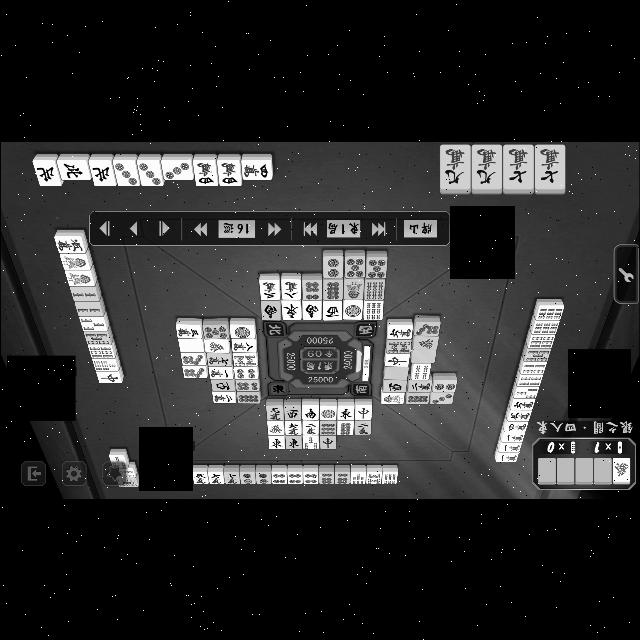1m: (500, 433, 524, 443), (208, 368, 232, 378), (495, 452, 517, 462), (498, 443, 520, 453)
1p: (228, 320, 256, 338), (320, 400, 336, 420), (344, 301, 361, 319)
1s: (59, 254, 91, 270), (64, 272, 96, 286), (344, 278, 362, 300), (379, 394, 405, 404)
2m: (408, 379, 430, 391), (212, 392, 234, 404), (302, 420, 318, 436), (354, 420, 370, 434)
2p: (322, 254, 342, 278), (432, 374, 456, 392), (239, 465, 255, 487), (254, 466, 270, 486)
2s: (68, 286, 100, 302), (74, 301, 104, 317)
3m: (176, 318, 202, 338), (260, 280, 278, 298)
3p: (137, 160, 161, 186), (114, 162, 140, 184), (161, 160, 191, 178), (430, 392, 452, 404)
3s: (78, 318, 110, 330), (511, 386, 539, 398), (302, 436, 318, 450)
4m: (191, 161, 215, 187), (217, 162, 240, 186), (239, 162, 269, 180), (502, 422, 526, 432)
4p: (270, 464, 286, 486), (302, 465, 318, 485), (287, 466, 303, 486), (234, 367, 258, 379)
4s: (515, 374, 543, 388), (412, 362, 431, 380), (518, 362, 546, 372)
5m: (54, 230, 88, 253), (191, 465, 207, 485), (506, 410, 530, 422)
5p: (202, 319, 228, 339), (344, 256, 364, 278), (366, 258, 384, 278)
5s: (522, 346, 550, 362), (82, 332, 112, 344)
6m: (386, 320, 412, 338), (508, 398, 534, 412), (207, 464, 223, 486), (284, 422, 300, 434)
6p: (302, 279, 321, 301), (364, 280, 382, 300), (318, 464, 334, 486), (236, 379, 258, 393), (334, 466, 348, 486)
6s: (526, 336, 556, 348), (86, 346, 115, 358)
7m: (534, 144, 564, 190), (503, 144, 532, 188), (224, 464, 240, 486), (206, 354, 230, 366)
7p: (413, 318, 439, 337), (182, 366, 208, 378), (181, 354, 205, 366)
7s: (91, 358, 119, 372), (350, 464, 366, 486)
8m: (281, 281, 299, 299), (231, 340, 257, 352)
8p: (323, 277, 341, 299), (235, 392, 259, 404), (406, 392, 428, 404), (336, 420, 352, 436)
8s: (231, 352, 257, 366), (386, 339, 410, 353), (366, 464, 380, 486)
9m: (471, 144, 501, 190), (440, 146, 468, 188), (266, 398, 282, 419)
9p: (320, 420, 334, 436)
9s: (536, 300, 562, 320), (529, 320, 559, 334), (381, 466, 397, 486), (364, 302, 380, 320)
chun: (354, 398, 372, 420), (384, 354, 408, 368), (95, 372, 123, 383), (318, 436, 334, 450)
haku: (178, 340, 205, 352), (410, 350, 434, 362), (384, 366, 408, 378)
hatsu: (612, 458, 630, 484), (411, 336, 437, 349), (204, 339, 228, 353), (267, 421, 283, 435)
nan: (260, 302, 278, 321), (302, 302, 318, 320), (302, 401, 318, 419)
pe: (88, 161, 114, 187), (32, 160, 58, 186), (56, 161, 88, 179)
sha: (283, 399, 301, 419), (382, 379, 406, 393), (322, 302, 340, 318), (210, 380, 234, 392)
tou: (336, 398, 354, 420), (282, 301, 300, 319), (284, 435, 302, 449), (268, 436, 284, 450)
